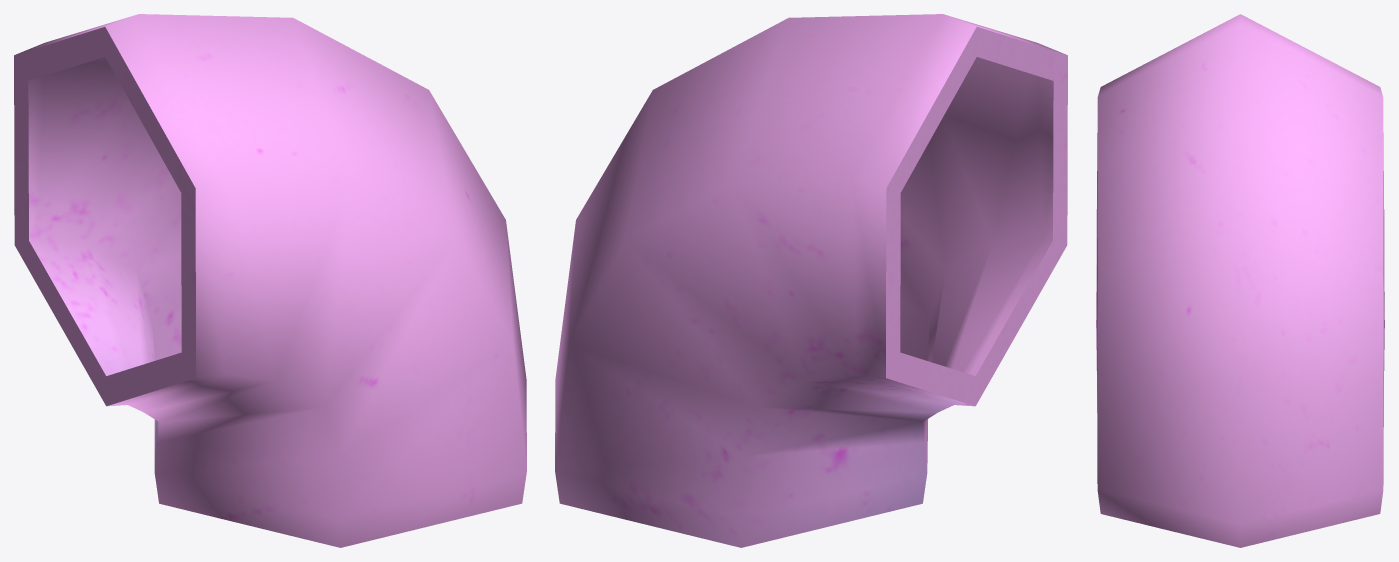
The model's file is PipeMediumCorner_01_SM_Low.fbx.
3 views of the same model, side by side, from view 1: azimuth 30°, elevation 25°; view 2: azimuth 150°, elevation 25°; view 3: azimuth 270°, elevation 25° (orthographic). The views are drawn at different scales.
Parts seen in each view (by area): view 1: Medium_Corner; view 2: Medium_Corner; view 3: Medium_Corner.
Part boxes in pixels (x1,y1,x2,y2): Medium_Corner: (14, 14, 526, 547); Medium_Corner: (555, 14, 1067, 547); Medium_Corner: (1096, 14, 1384, 547).
Bounding box in the file's own units: 64.89 × 72.7 × 49.96.
1 material, 1 textured.
